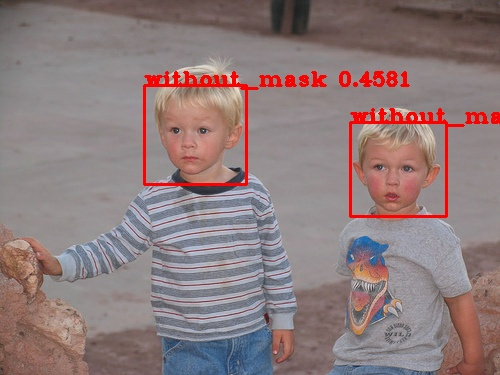without_mask: (148, 67, 261, 188), (351, 108, 451, 219)
